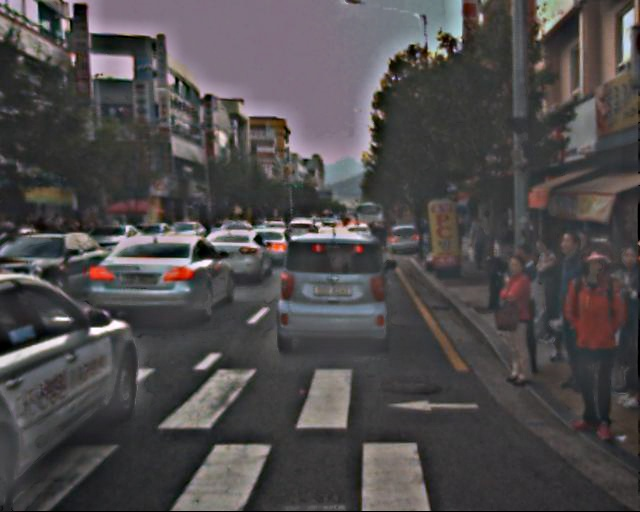person: (557, 248, 635, 438), (538, 230, 605, 393), (489, 256, 544, 389), (596, 244, 640, 409), (519, 237, 572, 367), (467, 216, 490, 271)
